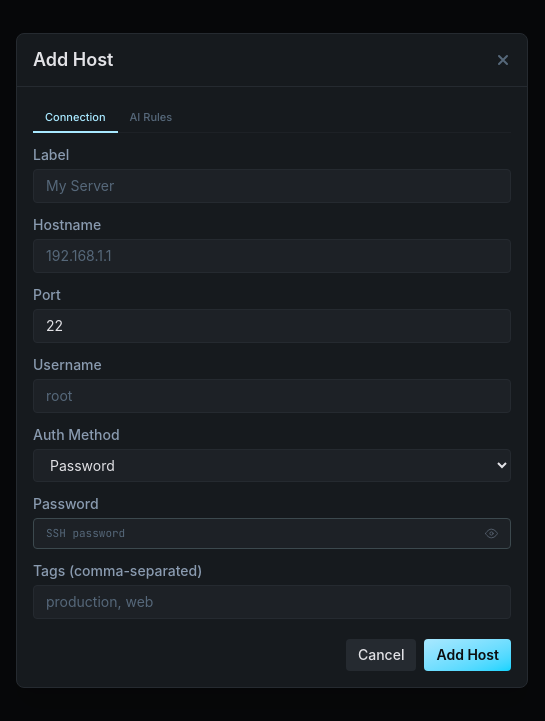
AddHostModal › should show private key field when auth method is privateKey
Select "Private Key" in the dropdown showing "Password". click: point(272, 466)
box: x1=33 y1=449 x2=511 y2=482
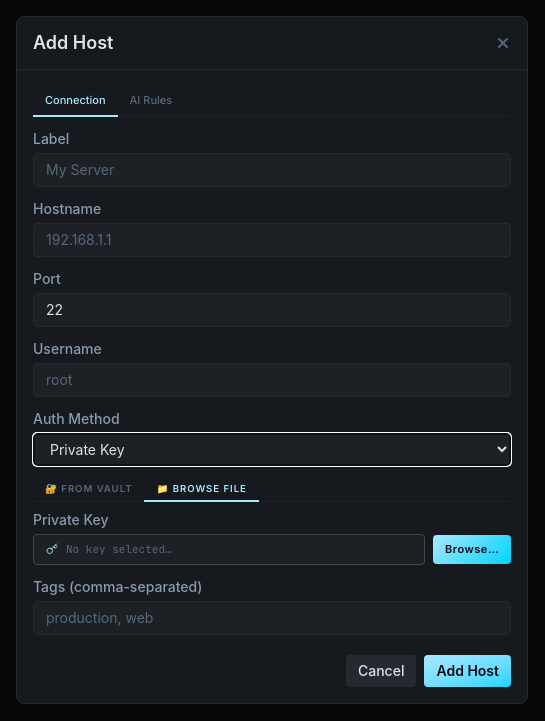
Expected: the text "No key selected…" is shown, x1=66 y1=541 x2=172 y2=558
Expected: the button "Browse…" is shown, x1=433 y1=535 x2=511 y2=564
